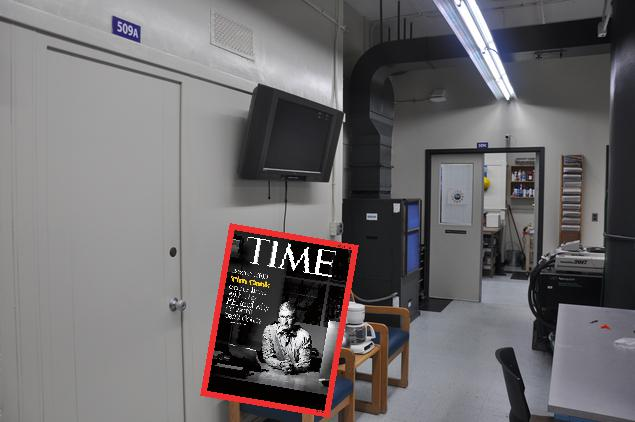times: (196, 222, 360, 417)
